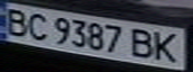3: (66, 17, 87, 50)
7: (103, 22, 130, 55)
8: (84, 20, 106, 52)
9: (48, 15, 72, 46)
B: (127, 26, 160, 61), (0, 6, 33, 37)
C: (24, 10, 51, 42)
K: (148, 29, 184, 64)
